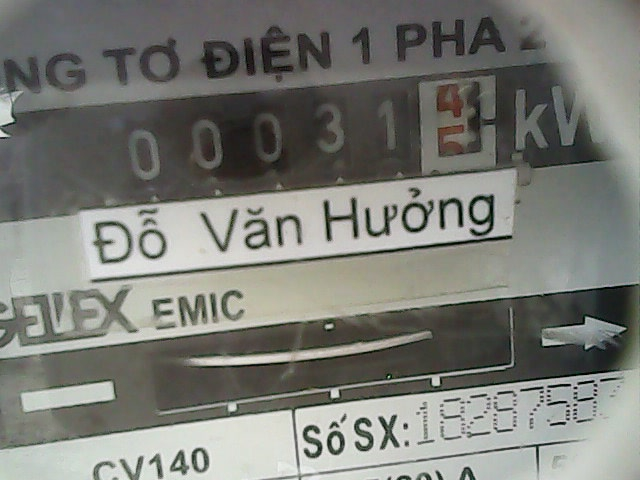phy_plate: (105, 72, 505, 198)
